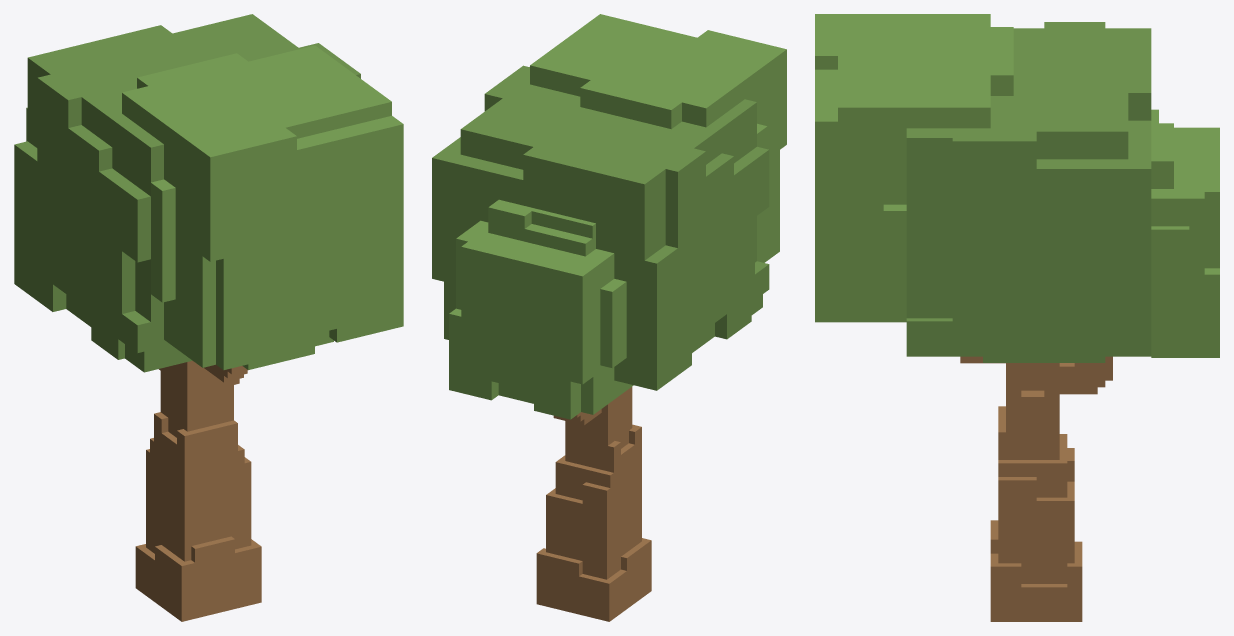
The model's file is BeesAndTrees-15.obj.
3 views of the same model, side by side, from view 1: azimuth 30°, elevation 25°; view 2: azimuth 150°, elevation 25°; view 3: azimuth 270°, elevation 25° (orthographic). The views are drawn at different scales.
Bounding box in the file's own units: 3.7 × 7.8 × 5.3.
1 material, 1 textured.
